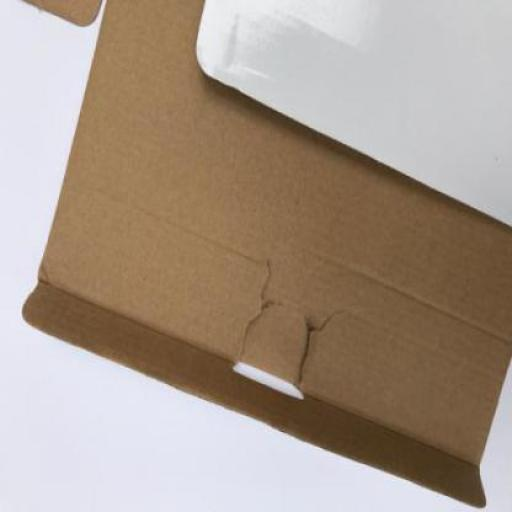cardboard: (21, 1, 511, 511)
